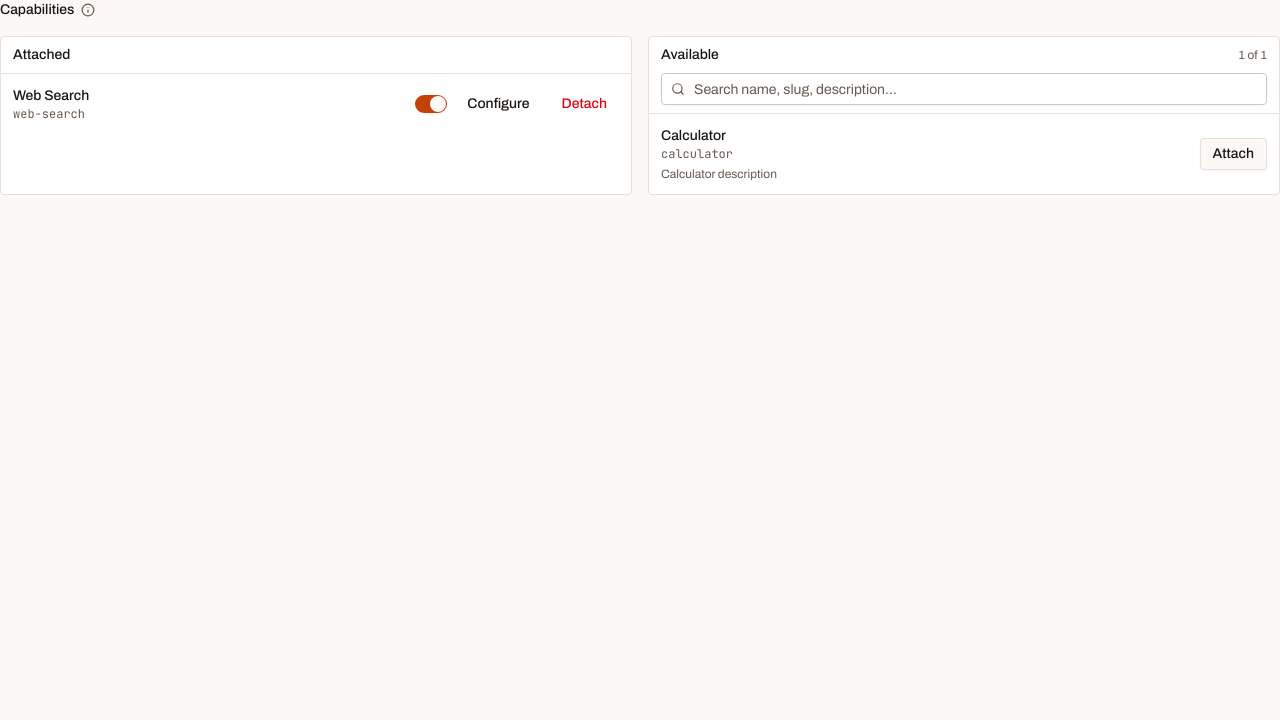
Test: AgentCapabilitiesTab › configure dialog › opens configure dialog on Configure click
Expected: the text "Web Search" is shown, [13,86,89,106]
What coordinates should you click on to do the following:
click the button "Configure"
I would click on:
 (498, 104)
Its box is [455,88,542,120].
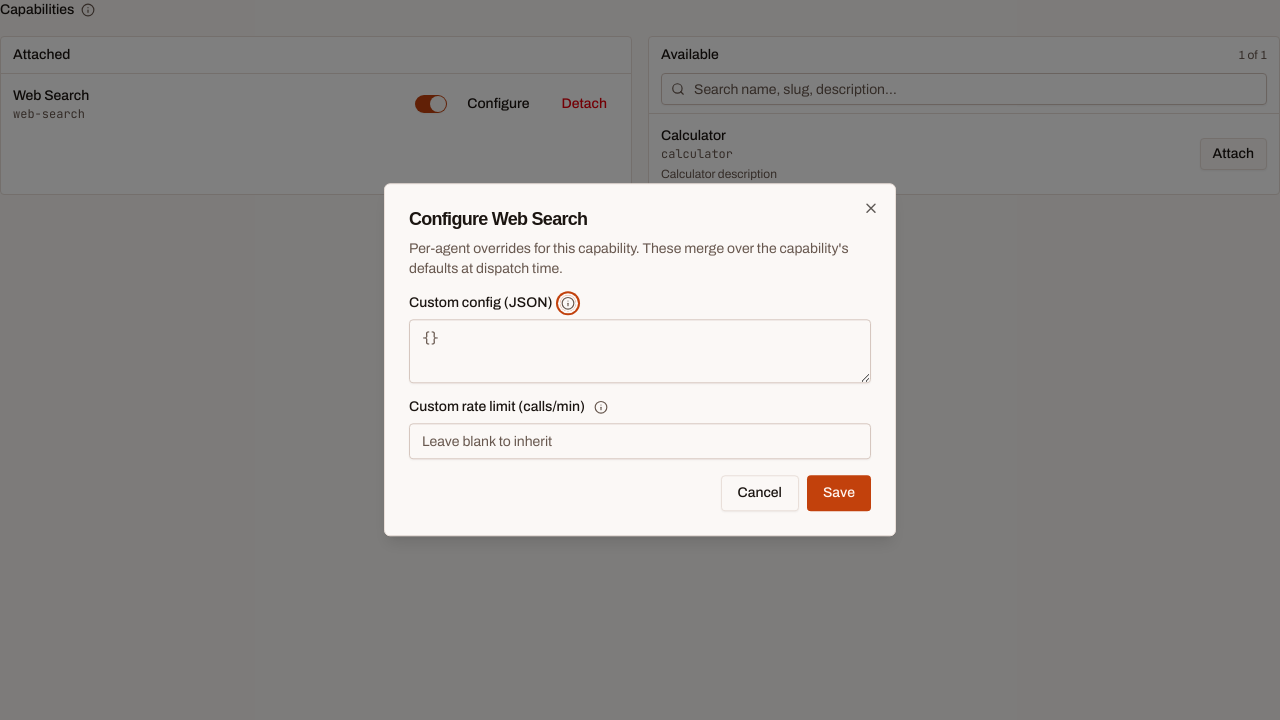
Expected: the heading "Configure Web Search" is shown, [409,209,587,229]
